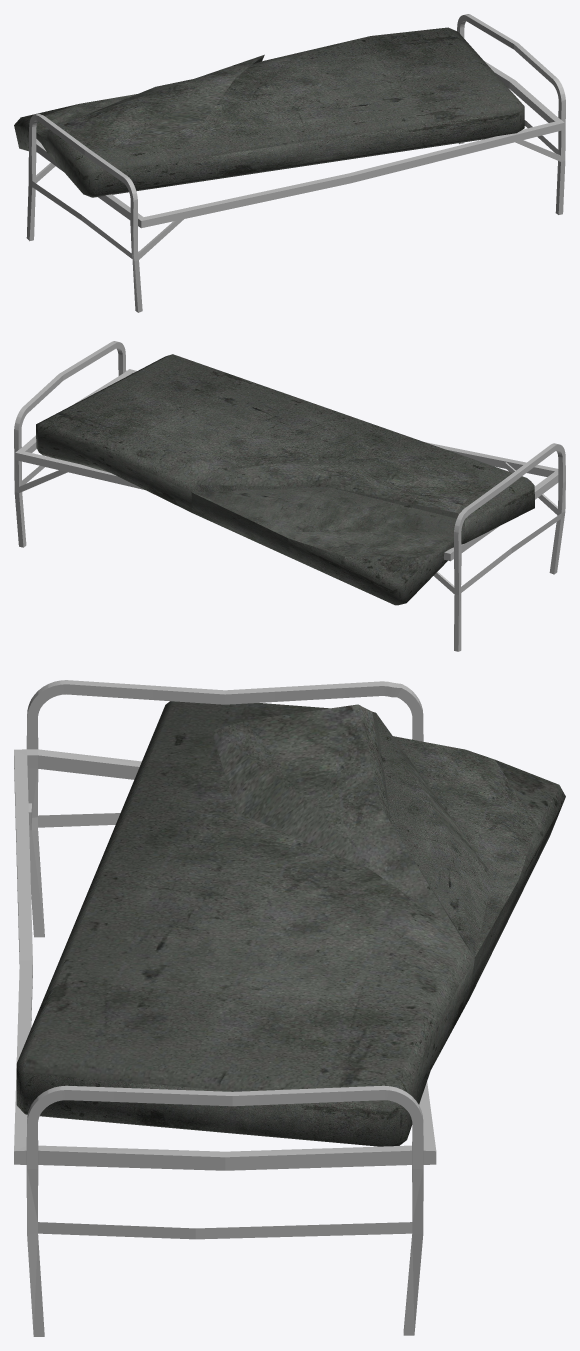
Rendered from M_Home_Garden_Outside_Bed03.fbx.
3 views of the same model, one above another, from view 1: azimuth 30°, elevation 25°; view 2: azimuth 150°, elevation 25°; view 3: azimuth 270°, elevation 25° (orthographic). The views are drawn at different scales.
Parts seen in each view (by area): view 1: M_Home_Garden_Outside_Bed03; view 2: M_Home_Garden_Outside_Bed03; view 3: M_Home_Garden_Outside_Bed03.
Part boxes in pixels (left/top/right/bottom): M_Home_Garden_Outside_Bed03: left=14, top=14, right=565, bottom=312; M_Home_Garden_Outside_Bed03: left=14, top=341, right=565, bottom=651; M_Home_Garden_Outside_Bed03: left=14, top=680, right=565, bottom=1336.
Size of the model in its own units: 248 by 71.68 by 139.
